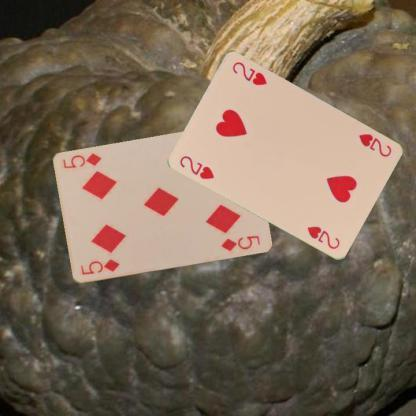2h: (177, 152, 216, 181), (356, 130, 394, 158)
5d: (78, 256, 120, 276)
